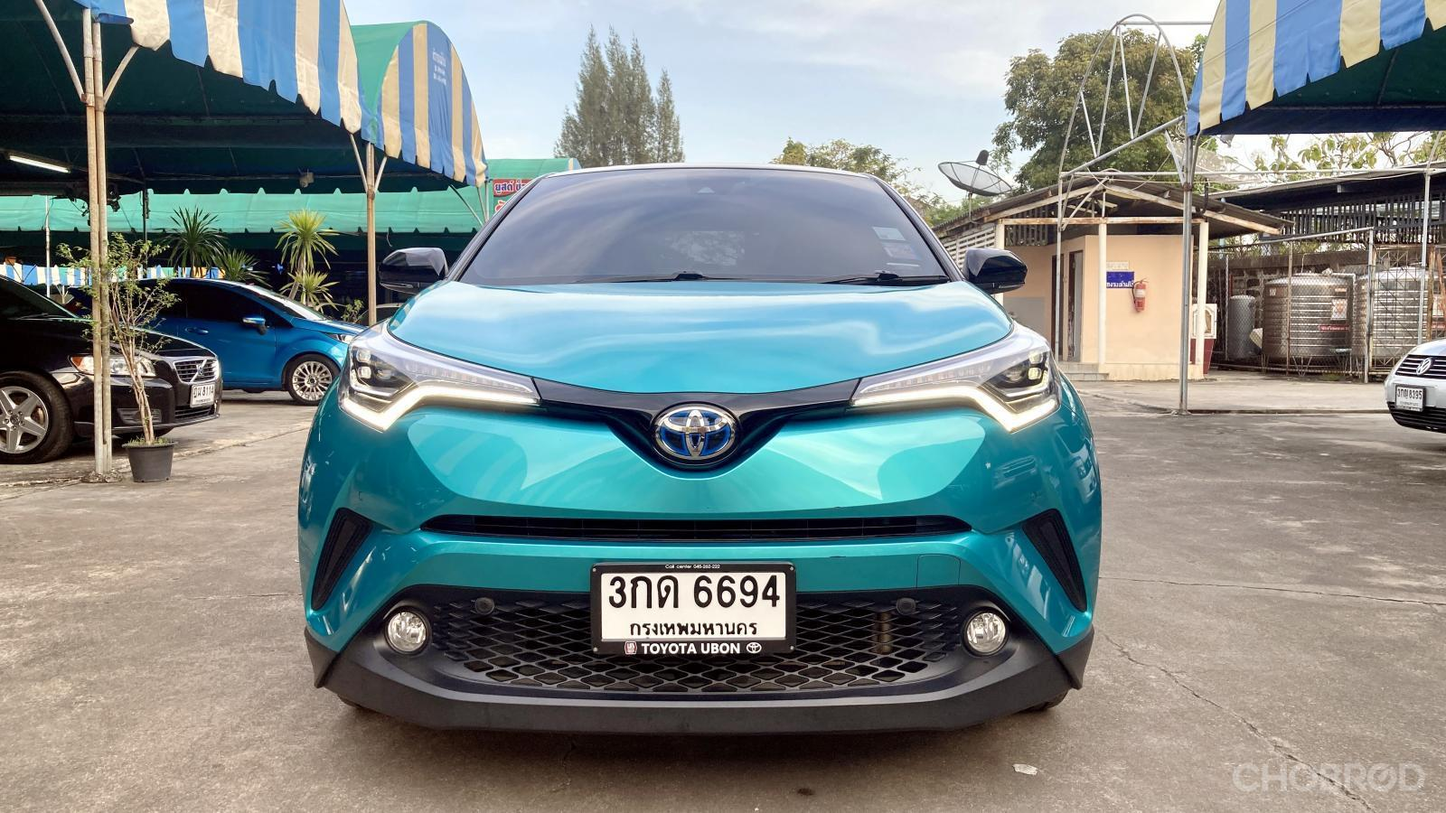license-plate: (588, 557, 797, 662), (1396, 380, 1424, 416), (189, 380, 219, 410)
